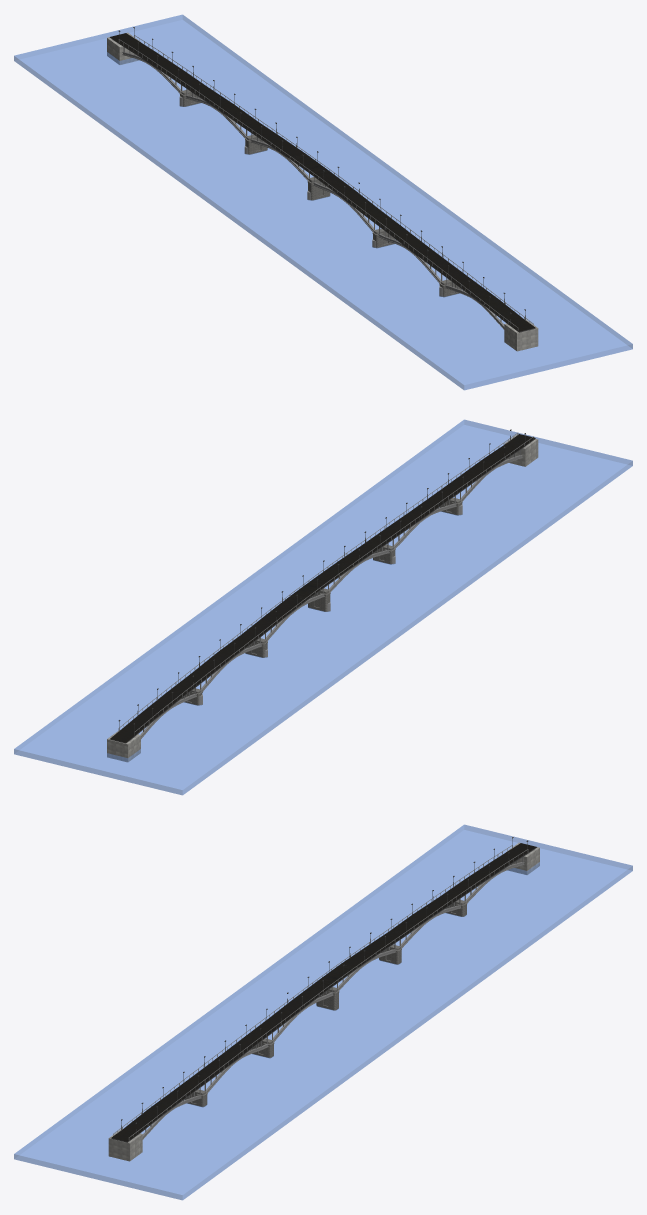
File: bridge.glb
3 renders of one model, top to bottom at view 1: azimuth 30°, elevation 25°; view 2: azimuth 150°, elevation 25°; view 3: azimuth 330°, elevation 25°, orthographic.
Visible parts, largest first — view 1: Plane, Cube.008, Cube.001, Cube.016, Cylinder; view 2: Plane, Cube.008, Cube.001, Cube.016, Cylinder; view 3: Plane, Cube.008, Cube.001, Cube.016, Cylinder.
Boxes of the visible parts, box(x1,y1,x2,y2) form: Plane: box(14, 14, 632, 390); Cube.008: box(109, 33, 535, 332); Cube.001: box(107, 32, 538, 351); Cube.016: box(119, 35, 533, 327); Cylinder: box(118, 27, 525, 324); Plane: box(14, 419, 632, 795); Cube.008: box(109, 434, 535, 743); Cube.001: box(107, 434, 538, 762); Cube.016: box(118, 432, 533, 732); Cylinder: box(118, 429, 525, 734); Plane: box(14, 824, 632, 1200); Cube.008: box(111, 843, 537, 1142); Cube.001: box(108, 842, 539, 1161); Cube.016: box(113, 845, 527, 1137); Cylinder: box(121, 837, 528, 1134).
Bounding box in the file's own units: 68.46 × 16.4 × 316.
5 materials, 2 textured.
